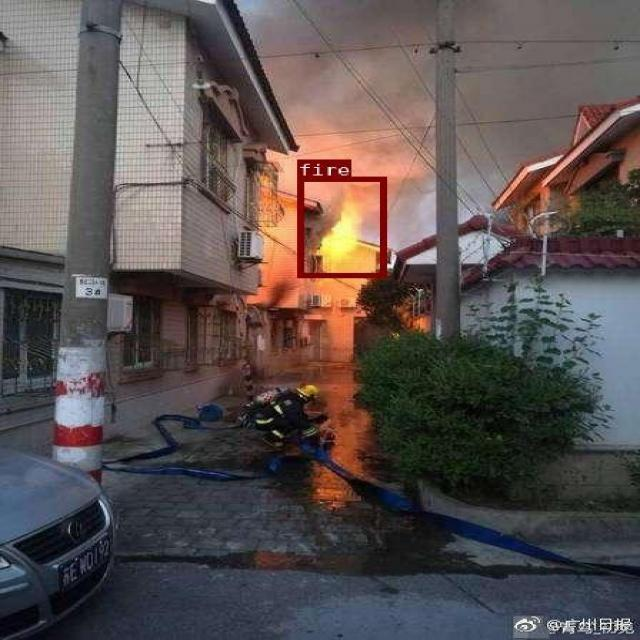fire: (296, 177, 385, 276)
